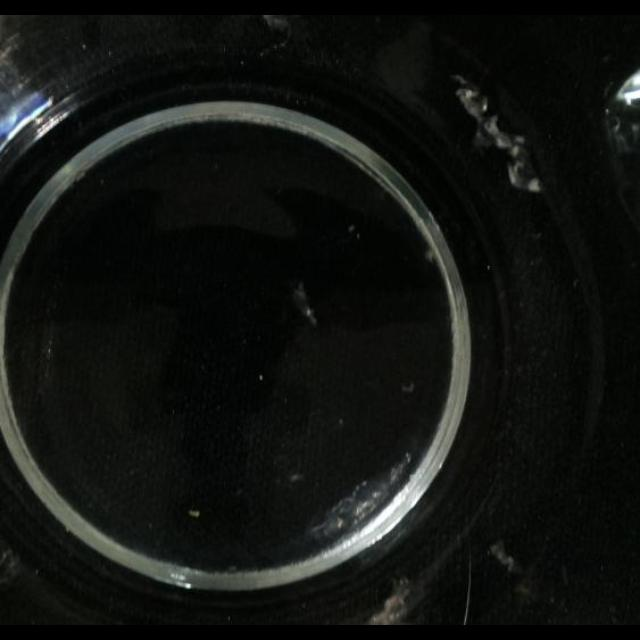Fibre: (450, 75, 540, 191), (366, 580, 414, 624), (290, 283, 318, 327), (454, 82, 488, 118), (424, 246, 436, 264)
Fragment: (5, 96, 53, 154)
microbeads: (488, 542, 518, 572), (401, 381, 415, 393), (289, 472, 303, 482)
